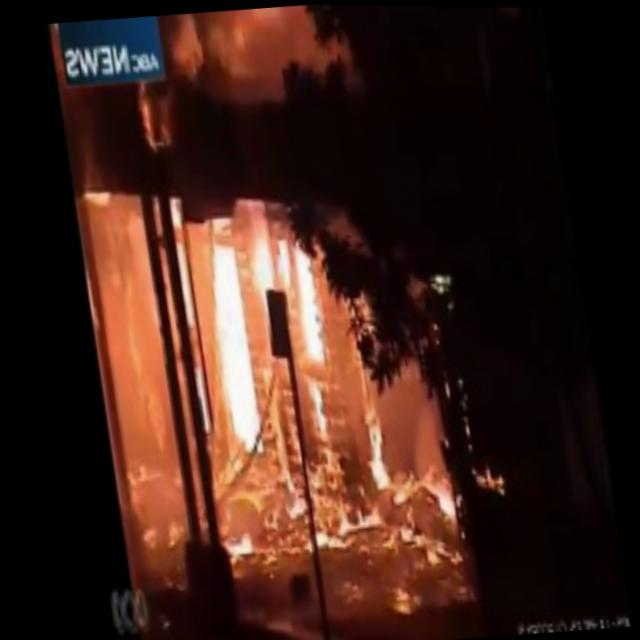fire: (212, 461, 432, 567), (205, 248, 254, 446), (288, 239, 326, 361), (362, 419, 399, 465)
smoke: (83, 207, 171, 513), (204, 2, 320, 81)
